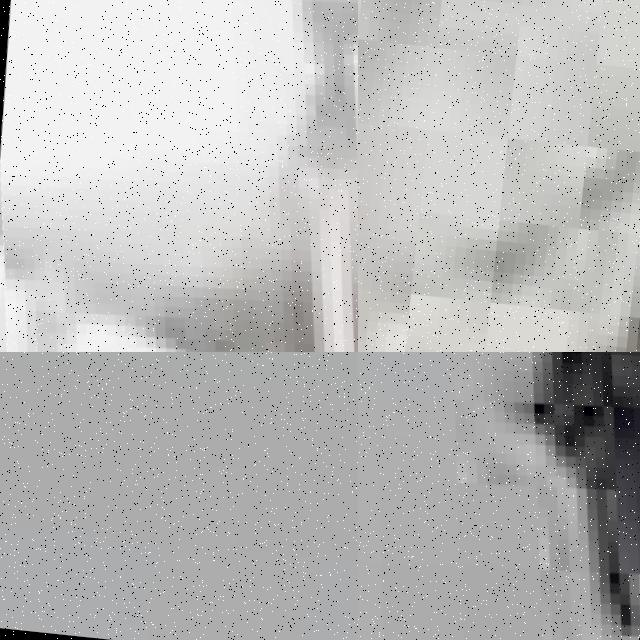drone: (0, 0, 358, 352), (358, 352, 640, 640)
